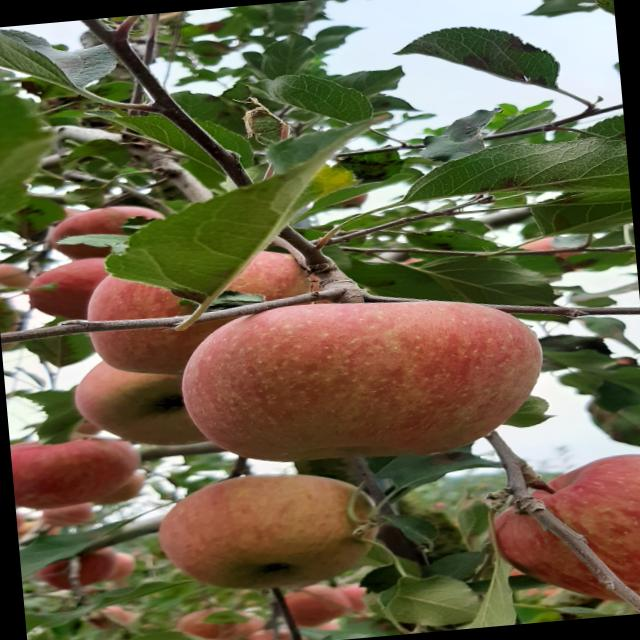fresh: (155, 277, 558, 484)
